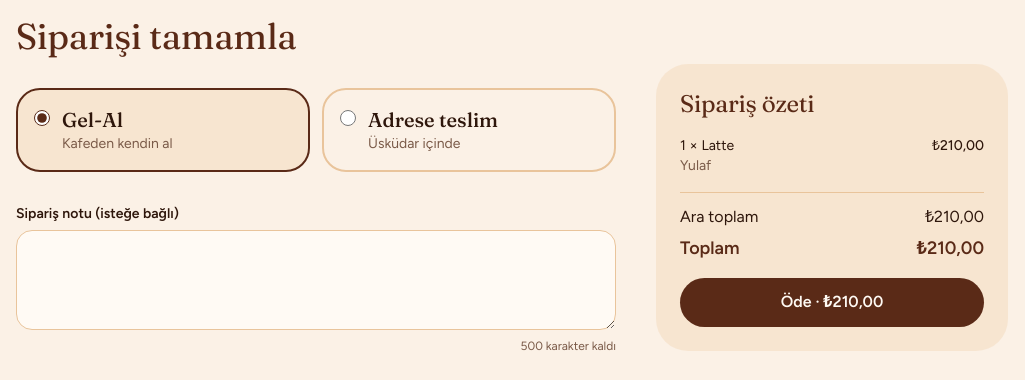
Test case: CheckoutPage › shows the reason when the order is refused
The image size is (1025, 380).
Click the button "Öde · ₺210,00" at [832, 302], box [680,278,984,327]
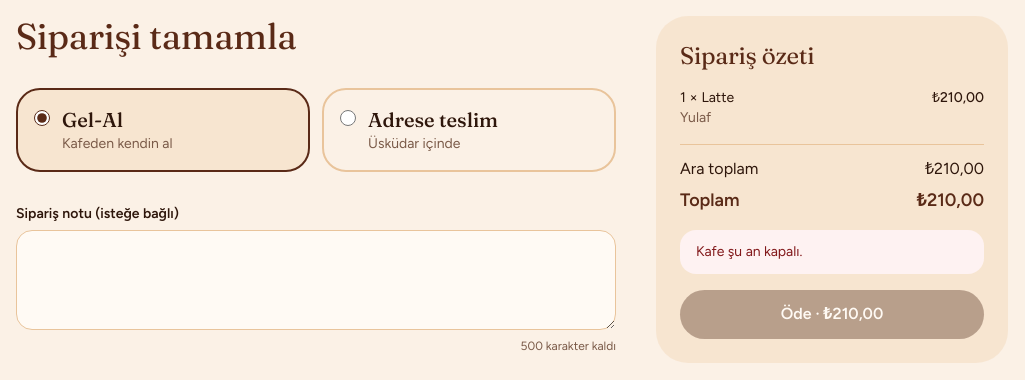
Expected: the text "Kafe şu an kapalı." is shown, [696,243,802,260]
